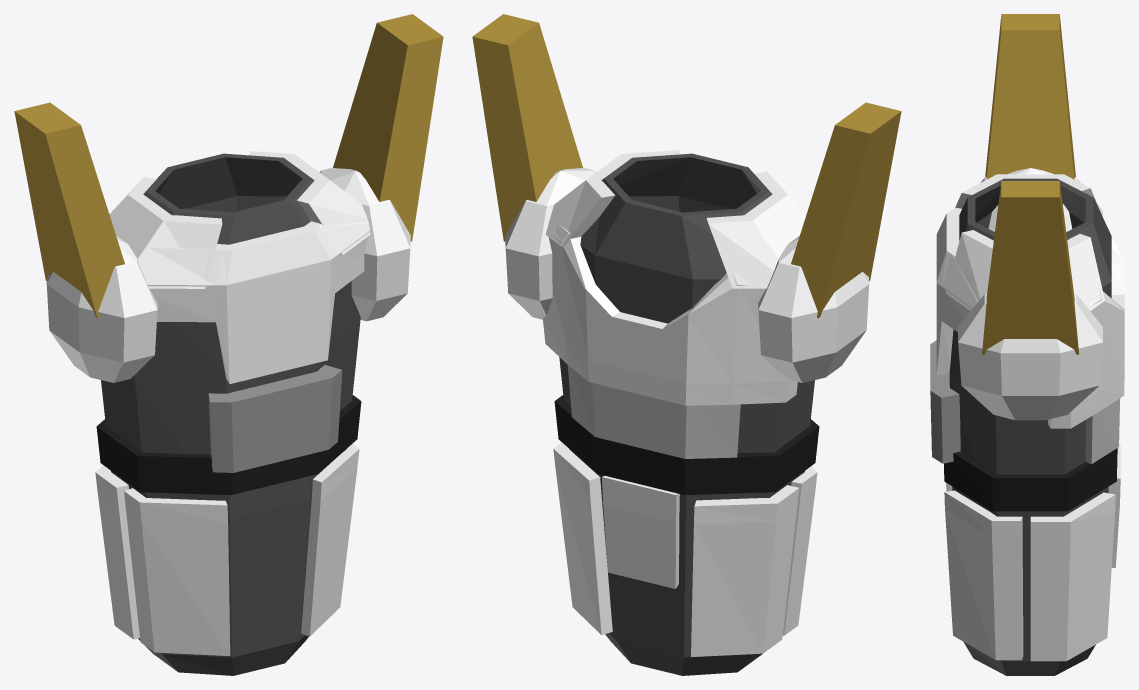
Rendered from person_thin_armor_recon_prestige.obj.
3 views of the same model, side by side, from view 1: azimuth 30°, elevation 25°; view 2: azimuth 150°, elevation 25°; view 3: azimuth 270°, elevation 25° (orthographic). The views are drawn at different scales.
Parts seen in each view (by area): view 1: object 2, person_thin_armor_recon_prestige_addons; view 2: object 2, person_thin_armor_recon_prestige_addons; view 3: object 2, person_thin_armor_recon_prestige_addons.
Boxes of the visible parts, <box> form: object 2: <box>46,151,410,675</box>; person_thin_armor_recon_prestige_addons: <box>14,14,443,318</box>; object 2: <box>505,150,869,675</box>; person_thin_armor_recon_prestige_addons: <box>472,14,901,318</box>; object 2: <box>930,168,1124,675</box>; person_thin_armor_recon_prestige_addons: <box>982,14,1079,354</box>.
Size of the model in its own units: 0.6684 by 0.92 by 0.2993.
